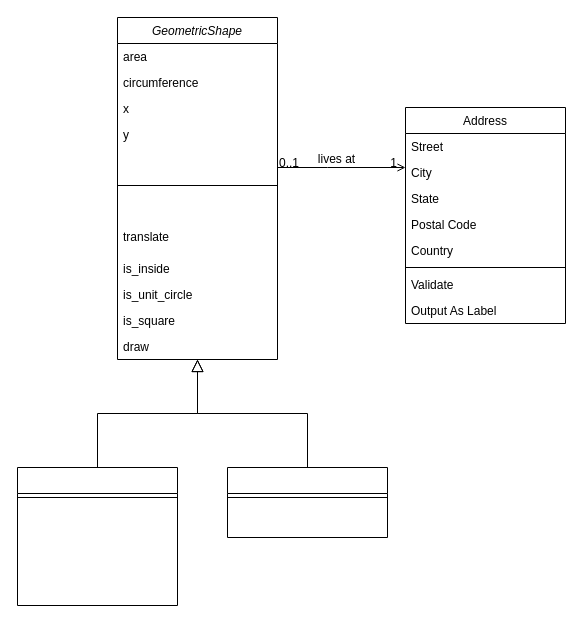
The diagram is 583 pixels wide and 623 high, and some of its shapes have lost their labels. Each missing label, with the centre of its shape:
Circle: point 97,536
Rectangle: point 307,502
